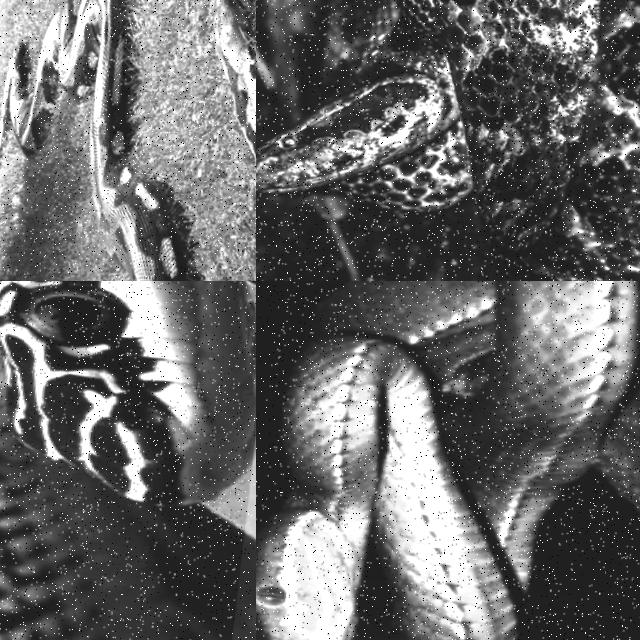Calloselasma rhodostoma: (256, 0, 639, 280)
Chrysopelea ornata: (0, 281, 255, 639)
Malayopython reticulatus: (0, 0, 198, 280)
Trimeresurus: (256, 281, 639, 639)
snake: (256, 281, 639, 639), (256, 0, 639, 280), (0, 281, 255, 639), (0, 0, 198, 280)
